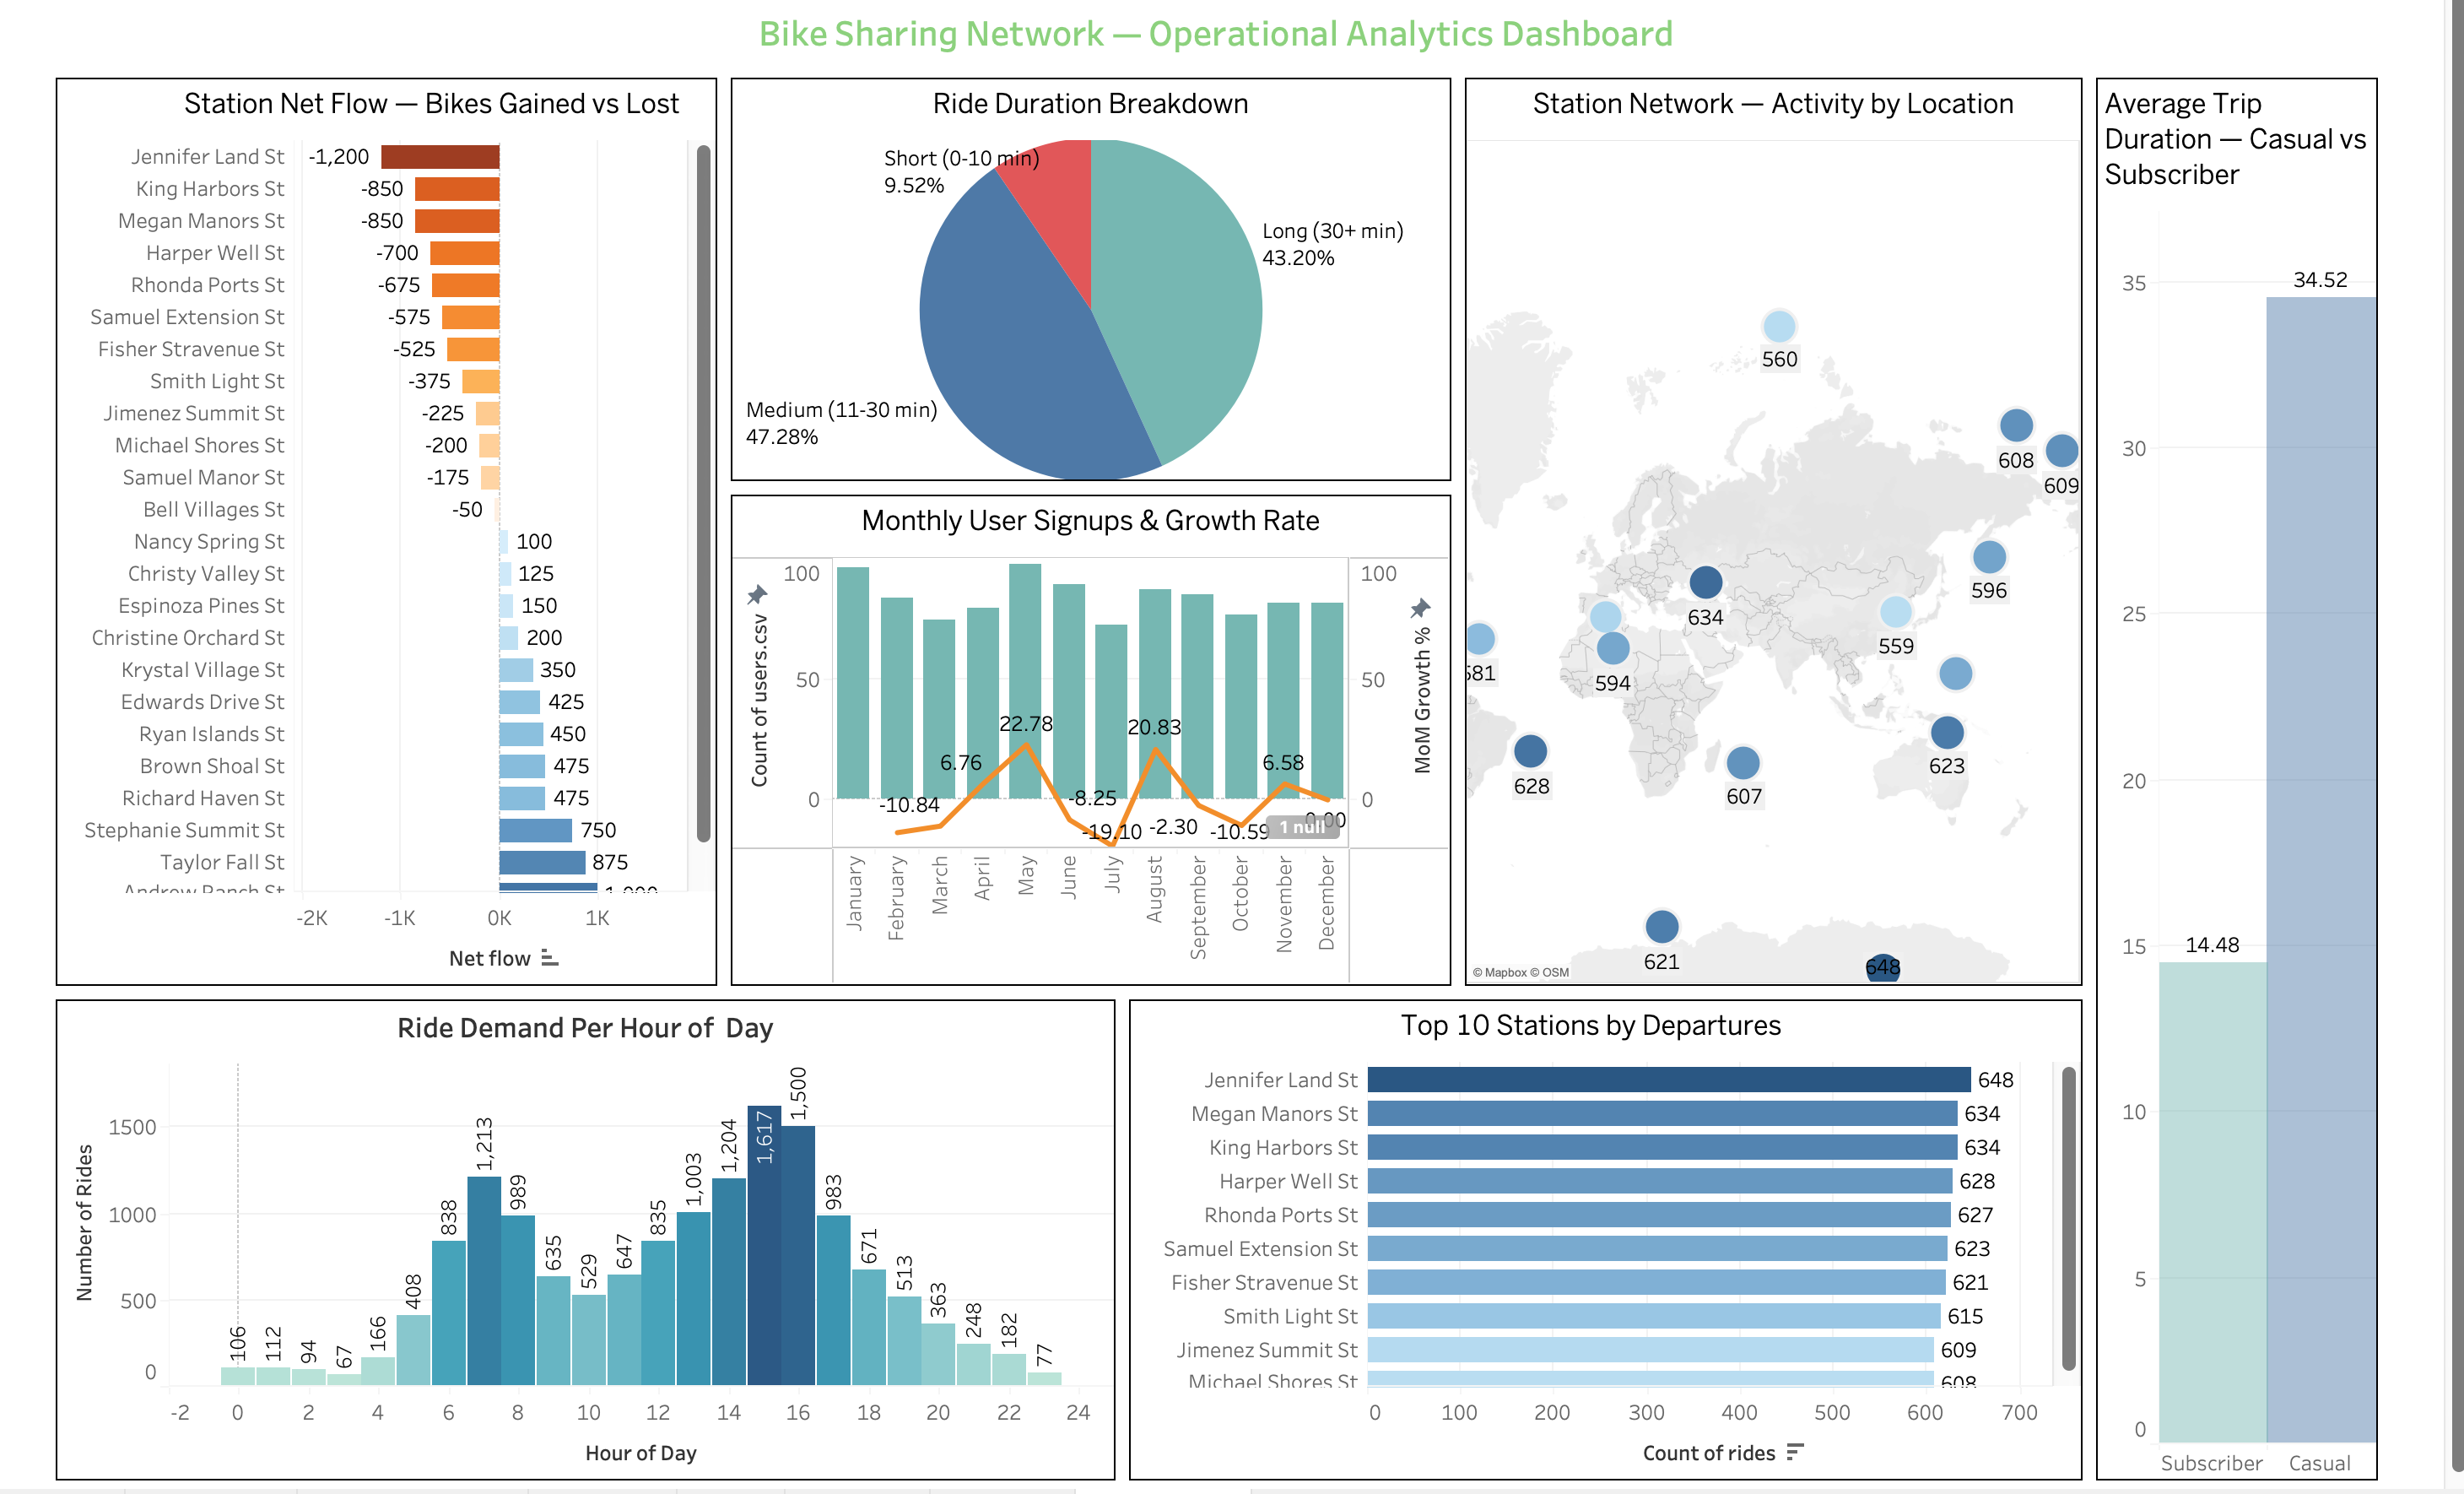

The dashboard page shown, as its layout file describes it:
{"tool":"tableau","page":{"name":"Dashboard 1","canvas":[1400,900],"ordinal":0},"visuals":[{"type":"text","box":[8,8,1384,45]},{"type":"worksheet","title":"Net_flow","mark":"Automatic","rows":["station_name"],"cols":["Calculation_5633260642177028"],"box":[8,53,400,546]},{"type":"worksheet","title":"ride_categories","mark":"Pie","box":[408,53,434.6,247]},{"type":"worksheet","title":"Station_map","mark":"Automatic","rows":["lat"],"cols":["lon"],"box":[842.6,53,374.4,546]},{"type":"worksheet","title":"Distance_vs_duration","mark":"Automatic","rows":["Calculation_5633260626141187"],"cols":["membership_level"],"box":[1217,53,175,839]},{"type":"worksheet","title":"User_growth","mark":"Bar","rows":["users.csv_D72FE3BE5F9F4139A10C9F5EB9528007","Calculation_5633260797648902"],"cols":["Calculation_5633260797259781"],"box":[408,300,434.6,299]},{"type":"worksheet","title":"Peak_hours","mark":"Bar","rows":["rides.csv_A7448460F5AB4C67A64DA185E032A017"],"cols":["start_time"],"box":[8,599,636.2,293]},{"type":"worksheet","title":"Top_stations","mark":"Automatic","rows":["station_name"],"cols":["rides.csv_A7448460F5AB4C67A64DA185E032A017"],"box":[644.2,599,572.8,293]}]}

Visuals, with their boxes in screenshot pixels (x1, y1, x2, y2):
text: [96,14,2364,87]
"Net_flow" worksheet: [96,87,752,982]
"ride_categories" worksheet (Pie marks): [752,87,1464,491]
"Station_map" worksheet: [1464,87,2078,982]
"Distance_vs_duration" worksheet: [2078,87,2364,1462]
"User_growth" worksheet (Bar marks): [752,491,1464,982]
"Peak_hours" worksheet (Bar marks): [96,982,1139,1462]
"Top_stations" worksheet: [1139,982,2078,1462]
